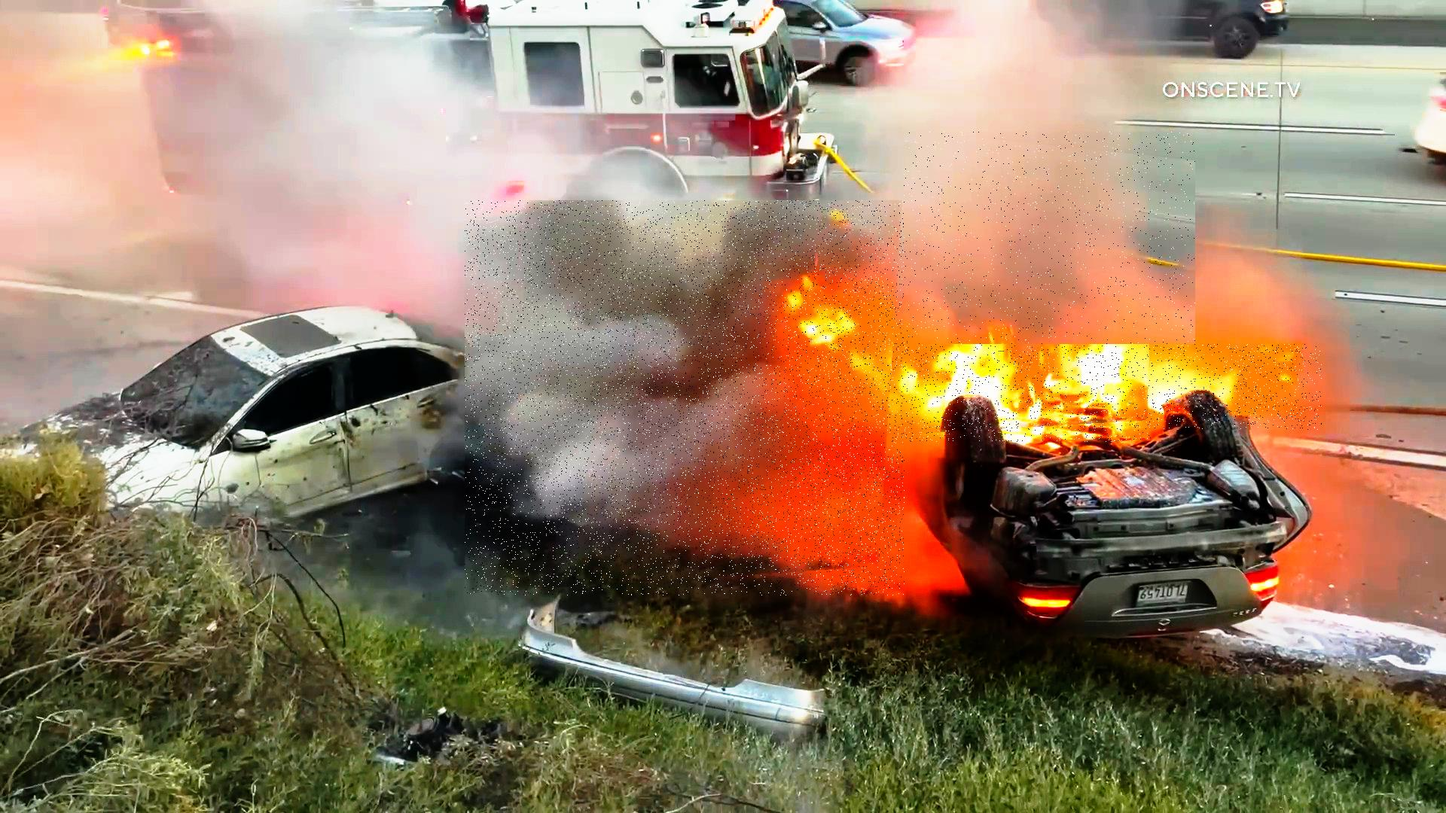fire: (465, 200, 905, 596), (904, 132, 1195, 346), (784, 297, 1151, 442), (1150, 344, 1322, 430)
